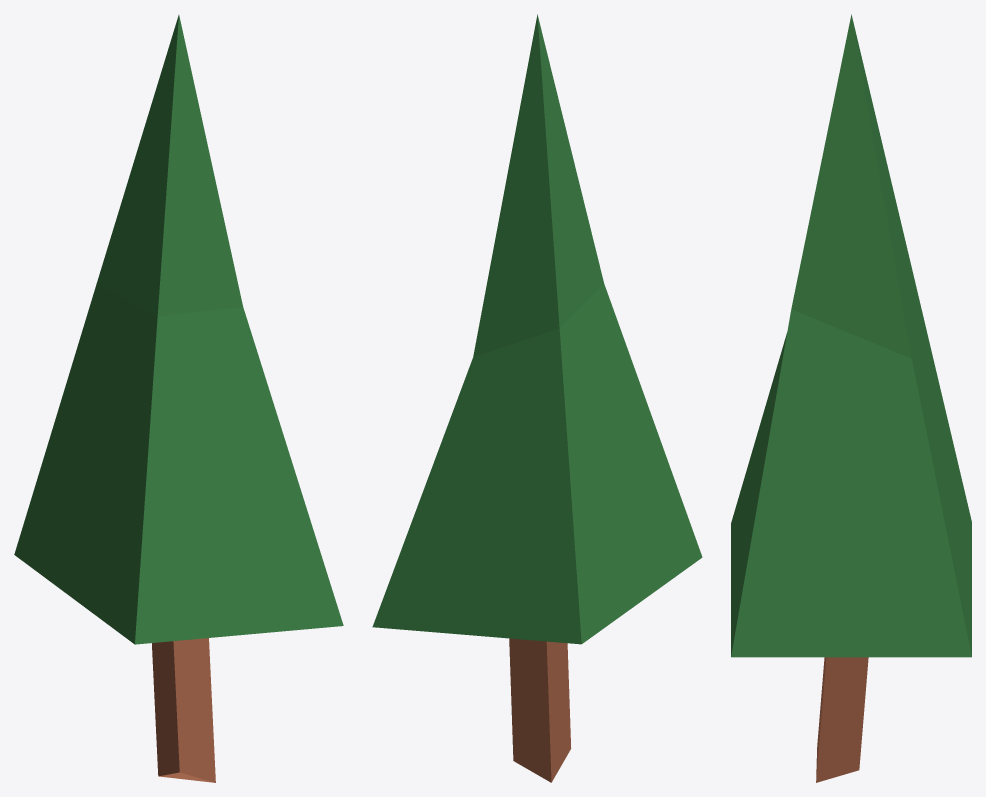
Rendered from Pine 3.fbx.
The picture shows the model from 3 angles, left to right: view 1: azimuth 30°, elevation 25°; view 2: azimuth 150°, elevation 25°; view 3: azimuth 270°, elevation 25°; orthographic projection.
Visible parts, largest first — view 1: Pine 3; view 2: Pine 3; view 3: Pine 3.
Part boxes in pixels (bbox=[...]): Pine 3: bbox=[14, 15, 343, 782]; Pine 3: bbox=[372, 14, 702, 782]; Pine 3: bbox=[731, 14, 971, 782].
Size of the model in its own units: 80 by 278 by 80.
